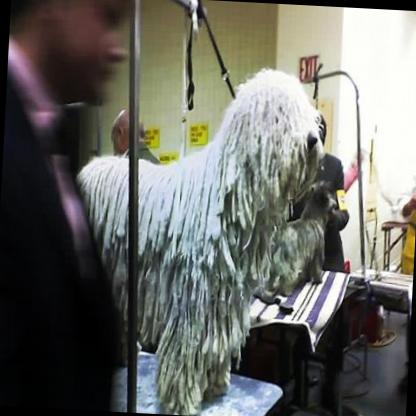komondor: (58, 54, 331, 416)
